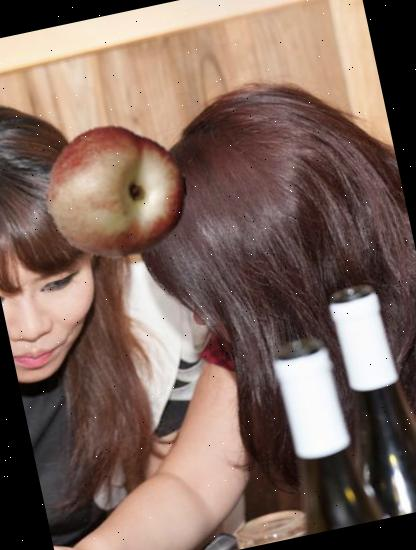Nectarine: (33, 109, 199, 276)
